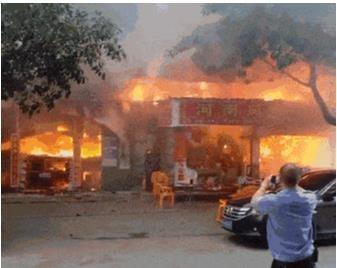fire: (122, 58, 334, 116), (196, 121, 330, 182), (5, 112, 115, 186)
